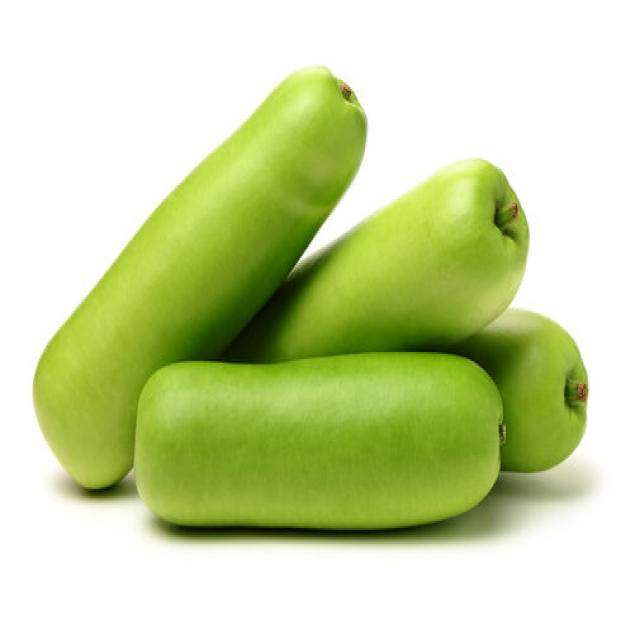Bottle Gourd: (31, 62, 368, 491), (132, 348, 506, 532), (222, 154, 530, 362), (455, 306, 588, 473)
